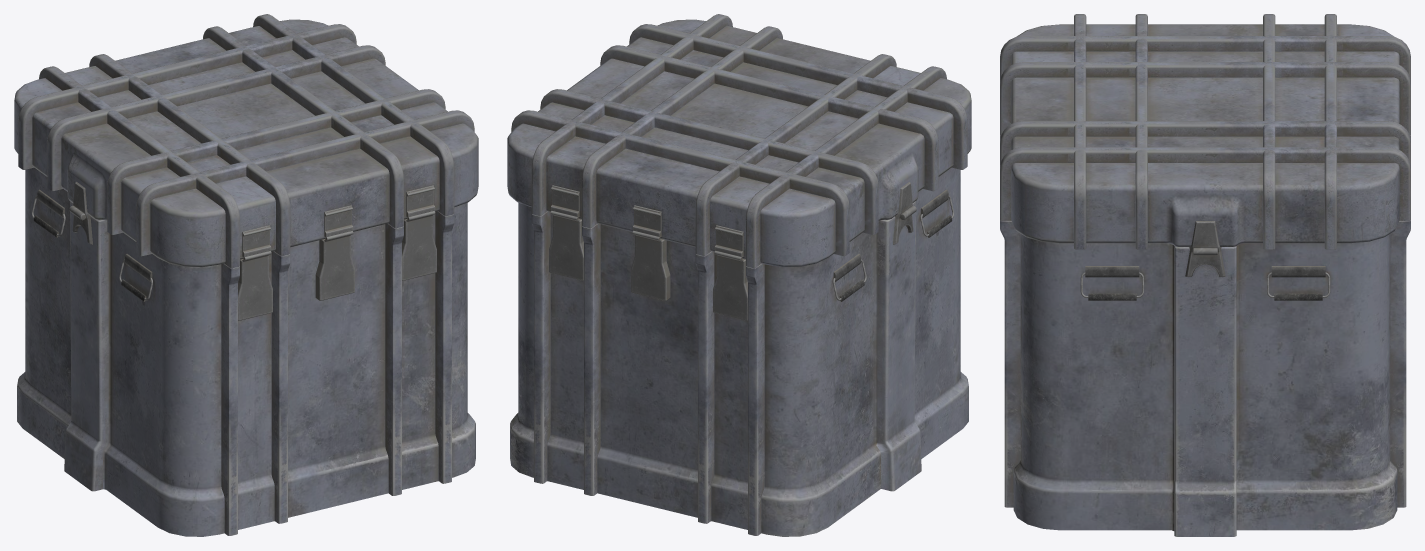
Rendered from SM_Crate_Closed.glb.
3 renders of one model, left to right at view 1: azimuth 30°, elevation 25°; view 2: azimuth 150°, elevation 25°; view 3: azimuth 270°, elevation 25°, orthographic. The views are drawn at different scales.
Parts seen in each view (by area): view 1: SM_Crate_Closed; view 2: SM_Crate_Closed; view 3: SM_Crate_Closed.
Boxes of the visible parts, box(x1,y1,x2,y2) form: SM_Crate_Closed: box(14, 14, 478, 536); SM_Crate_Closed: box(507, 14, 971, 536); SM_Crate_Closed: box(1000, 14, 1410, 536).
Bounding box in the file's own units: 1.03 × 0.9563 × 1.
Materials: 2 (2 with a texture image).
